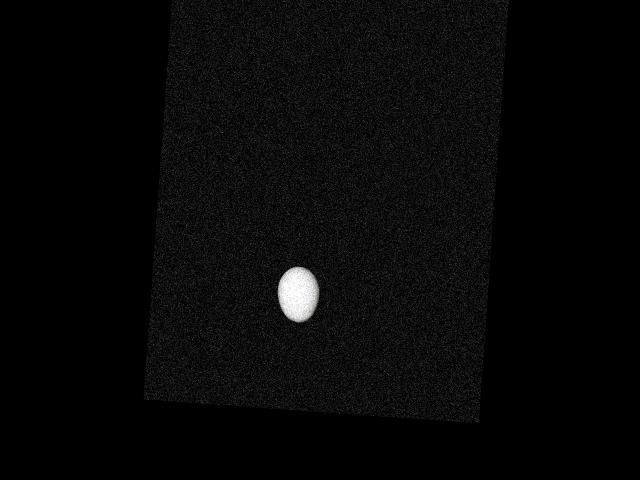egg: (276, 264, 320, 322)
